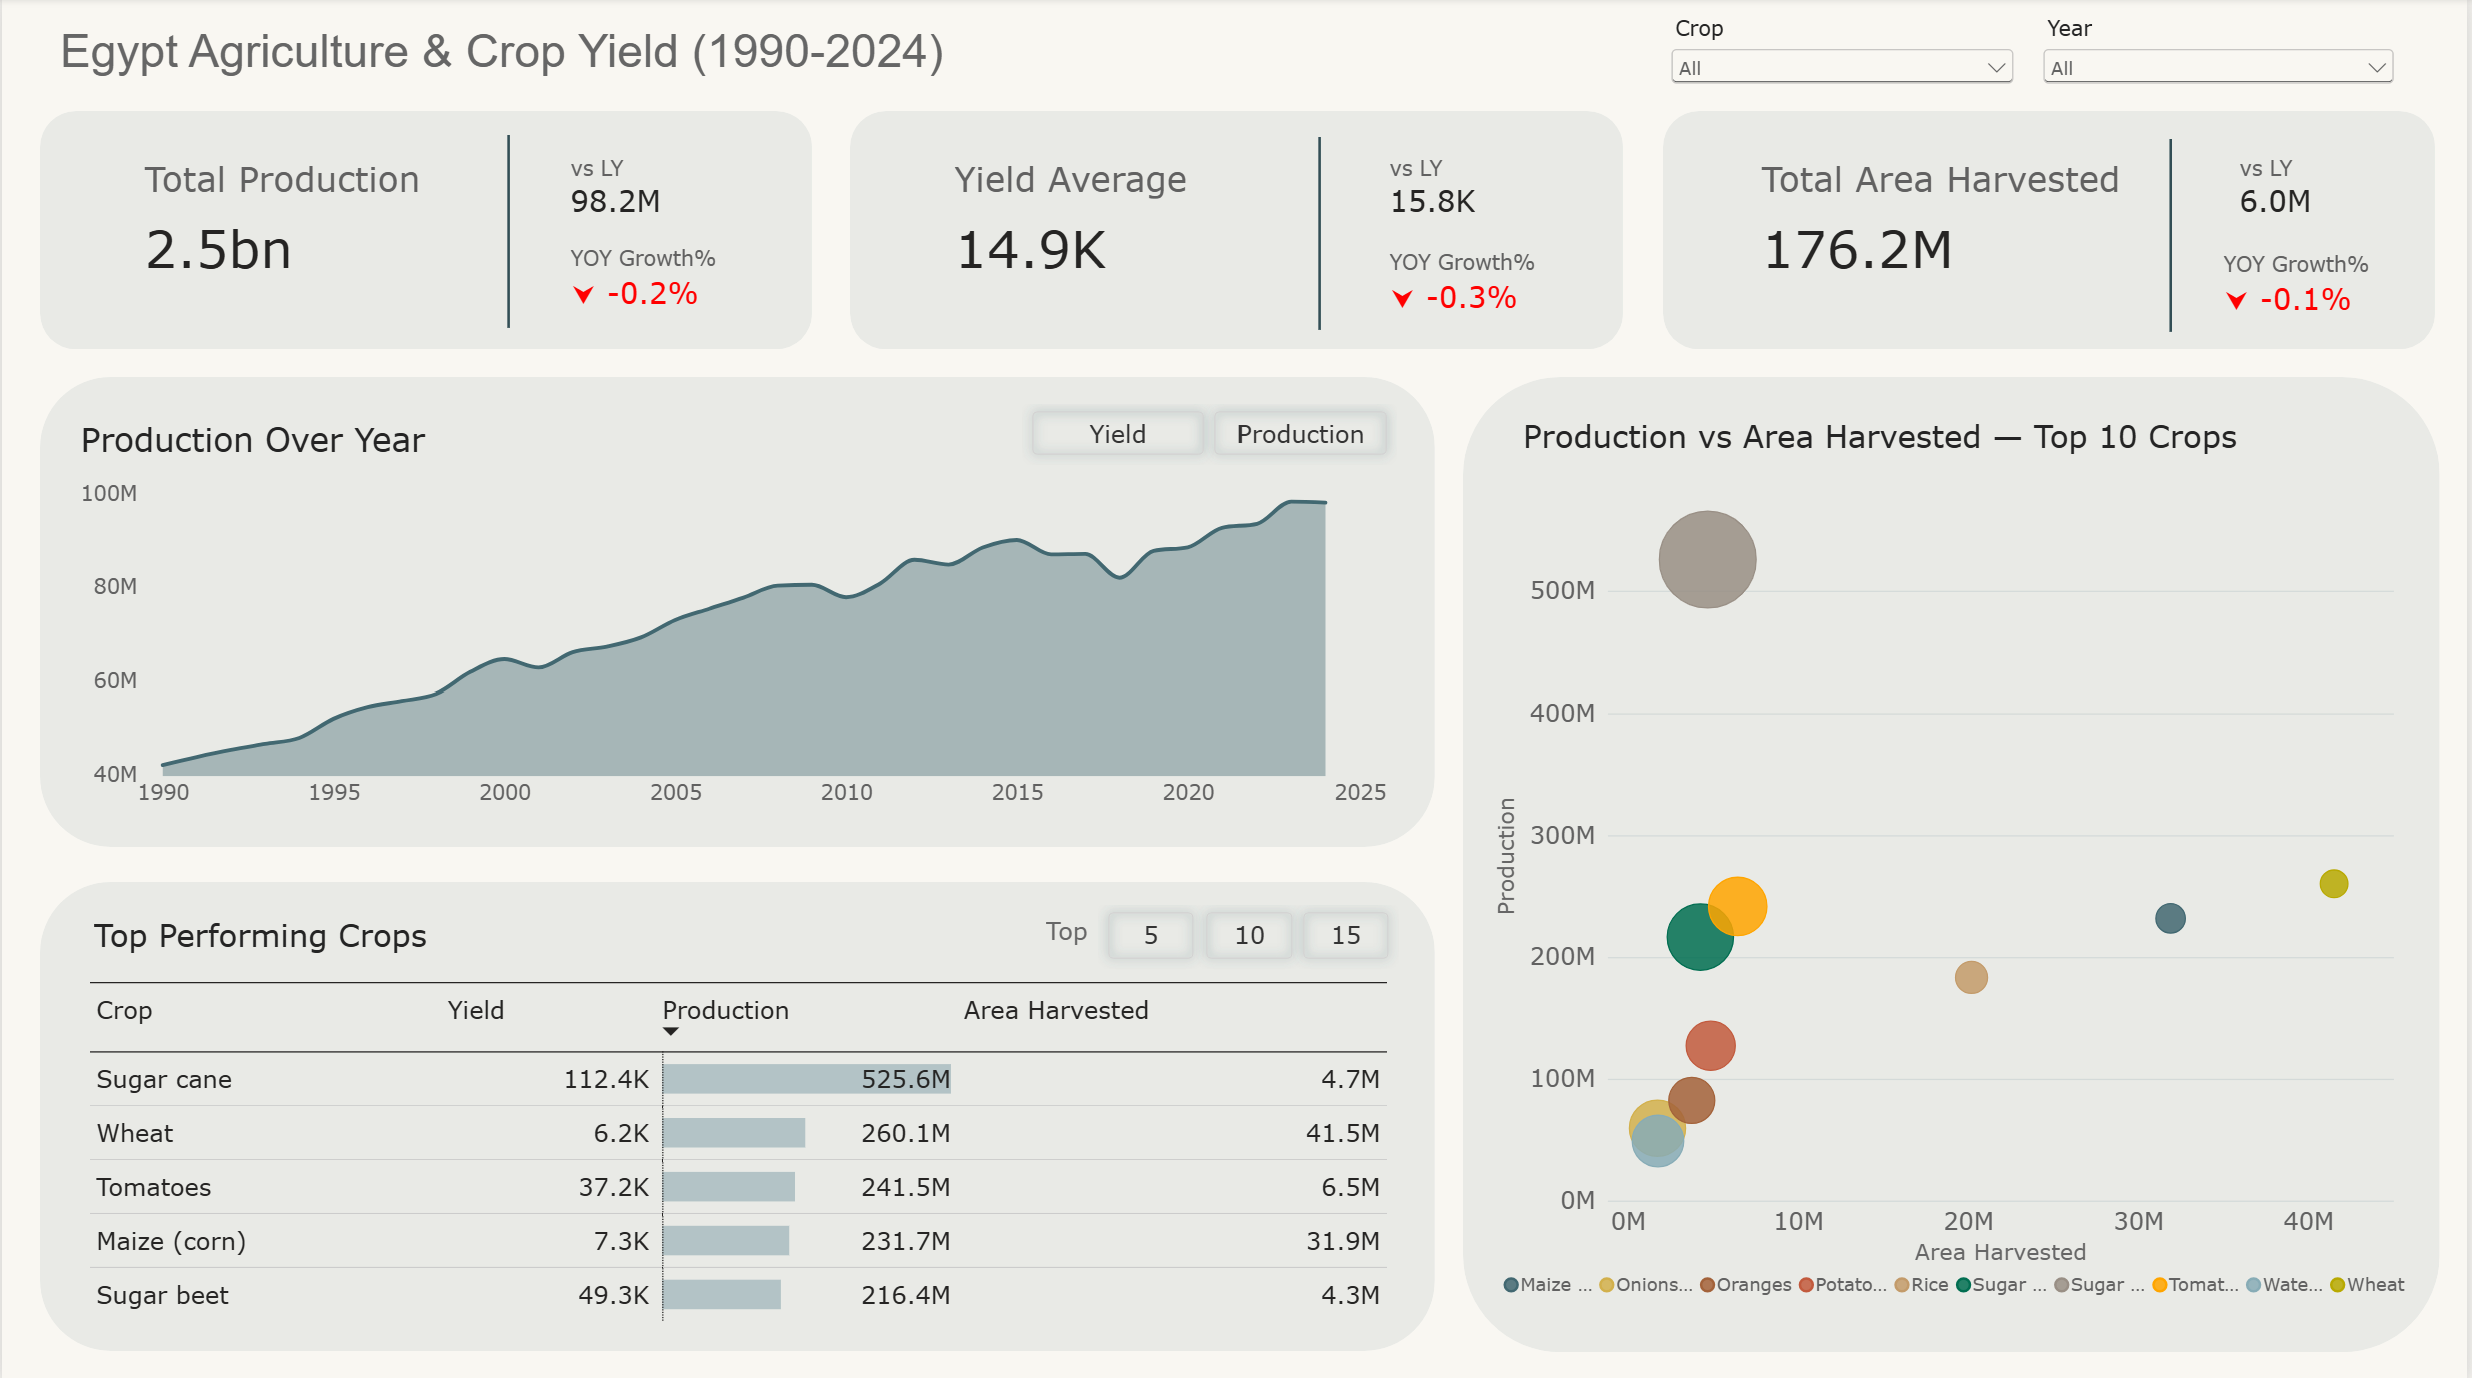

The dashboard page shown, as its layout file describes it:
{"tool":"powerbi","page":{"name":"Overview ","canvas":[1920,1080],"ordinal":0},"visuals":[{"type":"shape","box":[30.3,296.8,1086.2,365.4],"z":0},{"type":"shape","box":[1294.1,88.8,601.6,185.7],"z":1000},{"type":"shape","box":[660.2,88.8,601.6,185.7],"z":2000},{"type":"shape","box":[30.3,88.8,601.6,185.7],"z":3000},{"type":"cardVisual","fields":{"Data":["Egypt_Crop_Yield_Processed_Pivot.Total Production"]},"box":[95.6,110.9,252.7,141.3],"z":4000},{"type":"cardVisual","fields":{"Data":["Avg(Egypt_Crop_Yield_Processed_Pivot.Yield)"]},"box":[726.7,110.9,267.7,141.5],"z":5000},{"type":"shape","box":[30.3,688.5,1086.2,365.4],"z":6000},{"type":"shape","box":[1137.8,296.4,761.1,759.2],"z":7000},{"type":"cardVisual","fields":{"Data":["Egypt_Crop_Yield_Processed_Pivot.Total Area Harvested"]},"box":[1354.7,111,330.8,141.5],"z":8000},{"type":"cardVisual","fields":{"Data":["Egypt_Crop_Yield_Processed_Pivot.Yield Growth%"]},"box":[1065.2,181.7,158.7,91.8],"z":9000},{"type":"cardVisual","fields":{"Data":["Egypt_Crop_Yield_Processed_Pivot.Previous Year Production"]},"box":[427.1,108.8,199.7,69.2],"z":10000},{"type":"cardVisual","fields":{"Data":["Egypt_Crop_Yield_Processed_Pivot.Area Harvested Growth%"]},"box":[1713.9,183.9,149.6,76.8],"z":11000},{"type":"cardVisual","fields":{"Data":["Egypt_Crop_Yield_Processed_Pivot.Production Growth%"]},"box":[427.1,179.9,203.9,78.7],"z":12000},{"type":"slicer","fields":{"Values":["Egypt_Crop_Yield_Processed_Pivot.Year"]},"box":[1585.3,13.4,283,72.7],"z":13000},{"type":"slicer","fields":{"Values":["Egypt_Crop_Yield_Processed_Pivot.Item"]},"box":[1294.7,13.4,276.6,56.5],"z":14000},{"type":"cardVisual","fields":{"Data":["Egypt_Crop_Yield_Processed_Pivot.LY Average Yield%"]},"box":[1065.2,109,143.4,76.5],"z":15000},{"type":"cardVisual","fields":{"Data":["Egypt_Crop_Yield_Processed_Pivot.LY Area Harvested"]},"box":[1726,109.1,123.3,62.7],"z":16000},{"type":"textbox","box":[44.5,22.2,764,66.7],"z":17000},{"type":"lineChart","title":"Yield Over Year","fields":{"Category":["Egypt_Crop_Yield_Processed_Pivot.Year"],"Y":["Egypt_Crop_Yield_Processed_Pivot.Avg Yield"]},"box":[48,312,1049.5,336],"z":19000},{"type":"actionButton","box":[794,314.6,149.7,49.9],"z":20000},{"type":"actionButton","box":[937.2,314.6,149.7,49.9],"z":21000},{"type":"shape","box":[363.8,106.8,63.3,150.3],"z":22000},{"type":"shape","box":[1664.9,110.7,49.4,150.3],"z":23000},{"type":"shape","box":[994.6,108.8,63.3,150.3],"z":24000},{"type":"textbox","box":[72.4,715.7,323.7,32.2],"z":25000},{"type":"actionButton","box":[930.7,705.1,82.4,52.3],"z":26000},{"type":"actionButton","box":[854.8,705.1,82.4,52.3],"z":27000},{"type":"textbox","box":[813.6,715.9,48.3,36.2],"z":28000},{"type":"tableEx","title":"Table 15","fields":{"Values":["Egypt_Crop_Yield_Processed_Pivot.Item","Avg(Egypt_Crop_Yield_Processed_Pivot.Yield)","Sum(Egypt_Crop_Yield_Processed_Pivot.Production)","Egypt_Crop_Yield_Processed_Pivot.Total Area Harvested"]},"box":[49.9,751.2,1045.4,305.6],"z":31000},{"type":"actionButton","box":[1004.5,705.1,82.4,52.3],"z":32000},{"type":"scatterChart","fields":{"Series":["Egypt_Crop_Yield_Processed_Pivot.Item"],"Size":["Egypt_Crop_Yield_Processed_Pivot.Avg Yield"],"X":["Egypt_Crop_Yield_Processed_Pivot.Total Area Harvested"],"Y":["Egypt_Crop_Yield_Processed_Pivot.Total Production"]},"box":[1147.4,376.7,751.6,655.9],"z":33000},{"type":"textbox","box":[1183.7,327,583.3,49.7],"z":34000}]}

Visuals, with their boxes in screenshot pixels (x1, y1, x2, y2), scaled from the page's 1920x1080 canvas onto the 2472x1378 screenshot:
shape: [x1=39, y1=379, x2=1437, y2=845]
shape: [x1=1666, y1=113, x2=2441, y2=350]
shape: [x1=850, y1=113, x2=1625, y2=350]
shape: [x1=39, y1=113, x2=814, y2=350]
cardVisual - Egypt_Crop_Yield_Processed_Pivot.Total Production: [x1=123, y1=142, x2=448, y2=322]
cardVisual - Avg(Egypt_Crop_Yield_Processed_Pivot.Yield): [x1=936, y1=142, x2=1280, y2=322]
shape: [x1=39, y1=878, x2=1437, y2=1345]
shape: [x1=1465, y1=378, x2=2445, y2=1347]
cardVisual - Egypt_Crop_Yield_Processed_Pivot.Total Area Harvested: [x1=1744, y1=142, x2=2170, y2=322]
cardVisual - Egypt_Crop_Yield_Processed_Pivot.Yield Growth%: [x1=1371, y1=232, x2=1576, y2=349]
cardVisual - Egypt_Crop_Yield_Processed_Pivot.Previous Year Production: [x1=550, y1=139, x2=807, y2=227]
cardVisual - Egypt_Crop_Yield_Processed_Pivot.Area Harvested Growth%: [x1=2207, y1=235, x2=2399, y2=333]
cardVisual - Egypt_Crop_Yield_Processed_Pivot.Production Growth%: [x1=550, y1=230, x2=812, y2=330]
slicer - Egypt_Crop_Yield_Processed_Pivot.Year: [x1=2041, y1=17, x2=2405, y2=110]
slicer - Egypt_Crop_Yield_Processed_Pivot.Item: [x1=1667, y1=17, x2=2023, y2=89]
cardVisual - Egypt_Crop_Yield_Processed_Pivot.LY Average Yield%: [x1=1371, y1=139, x2=1556, y2=237]
cardVisual - Egypt_Crop_Yield_Processed_Pivot.LY Area Harvested: [x1=2222, y1=139, x2=2381, y2=219]
textbox: [x1=57, y1=28, x2=1041, y2=113]
"Yield Over Year" lineChart: [x1=62, y1=398, x2=1413, y2=827]
actionButton: [x1=1022, y1=401, x2=1215, y2=465]
actionButton: [x1=1207, y1=401, x2=1399, y2=465]
shape: [x1=468, y1=136, x2=550, y2=328]
shape: [x1=2144, y1=141, x2=2207, y2=333]
shape: [x1=1281, y1=139, x2=1362, y2=331]
textbox: [x1=93, y1=913, x2=510, y2=954]
actionButton: [x1=1198, y1=900, x2=1304, y2=966]
actionButton: [x1=1101, y1=900, x2=1207, y2=966]
textbox: [x1=1048, y1=913, x2=1110, y2=960]
"Table 15" tableEx: [x1=64, y1=958, x2=1410, y2=1348]
actionButton: [x1=1293, y1=900, x2=1399, y2=966]
scatterChart - Egypt_Crop_Yield_Processed_Pivot.Item x Egypt_Crop_Yield_Processed_Pivot.Avg Yield: [x1=1477, y1=481, x2=2445, y2=1318]
textbox: [x1=1524, y1=417, x2=2275, y2=481]
